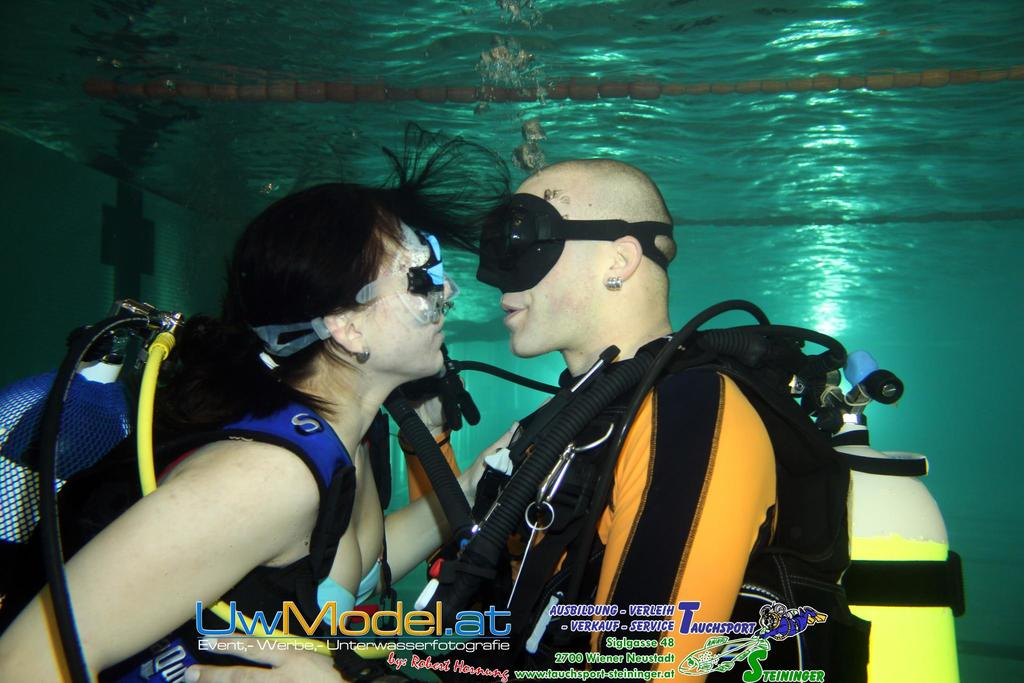Human-face: (501, 187, 605, 359), (359, 235, 452, 372)
